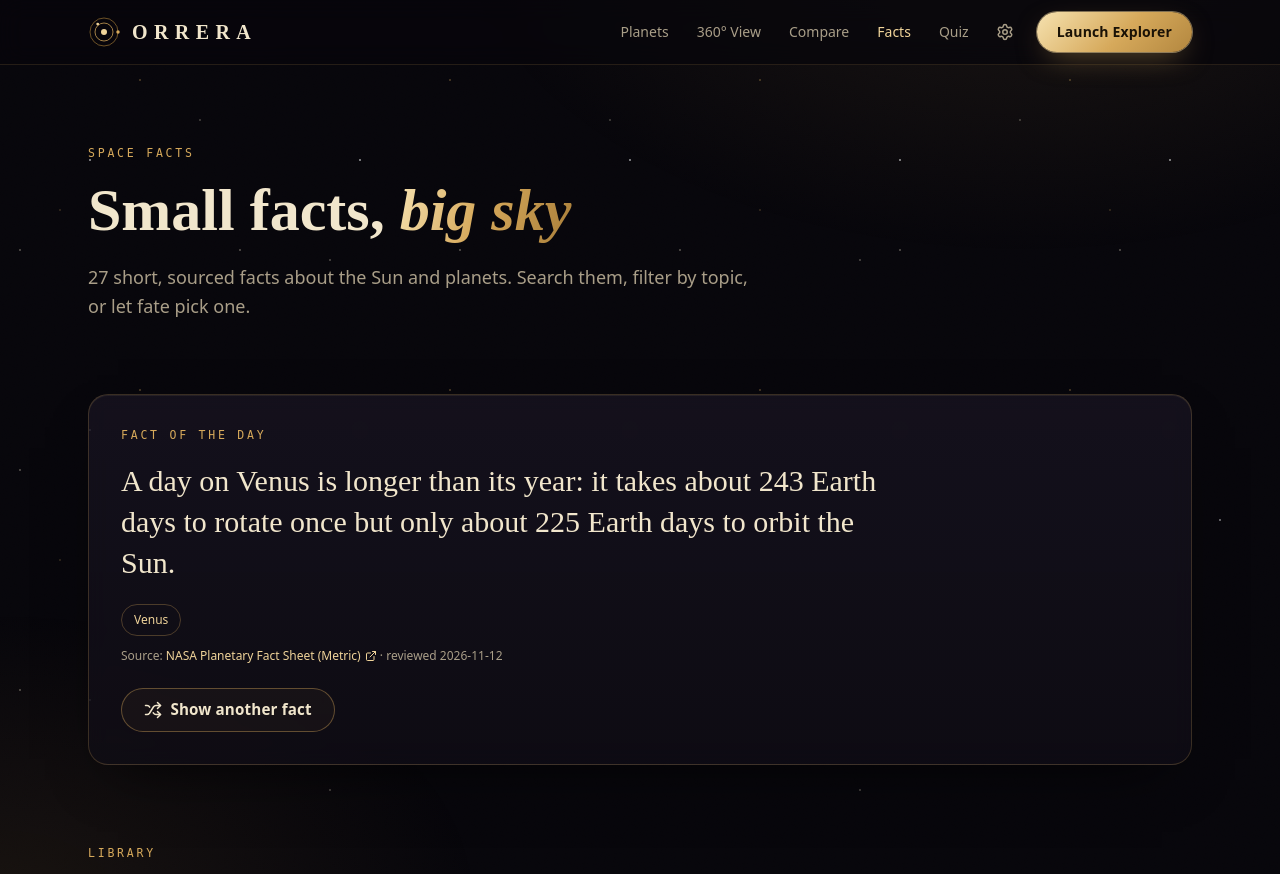
facts page › can show another fact
Expected: the heading "Small facts, big sky" is shown, [88,177,581,248]
Click the button "Show another fact" at coordinates (228, 710), box [121,688,335,732]
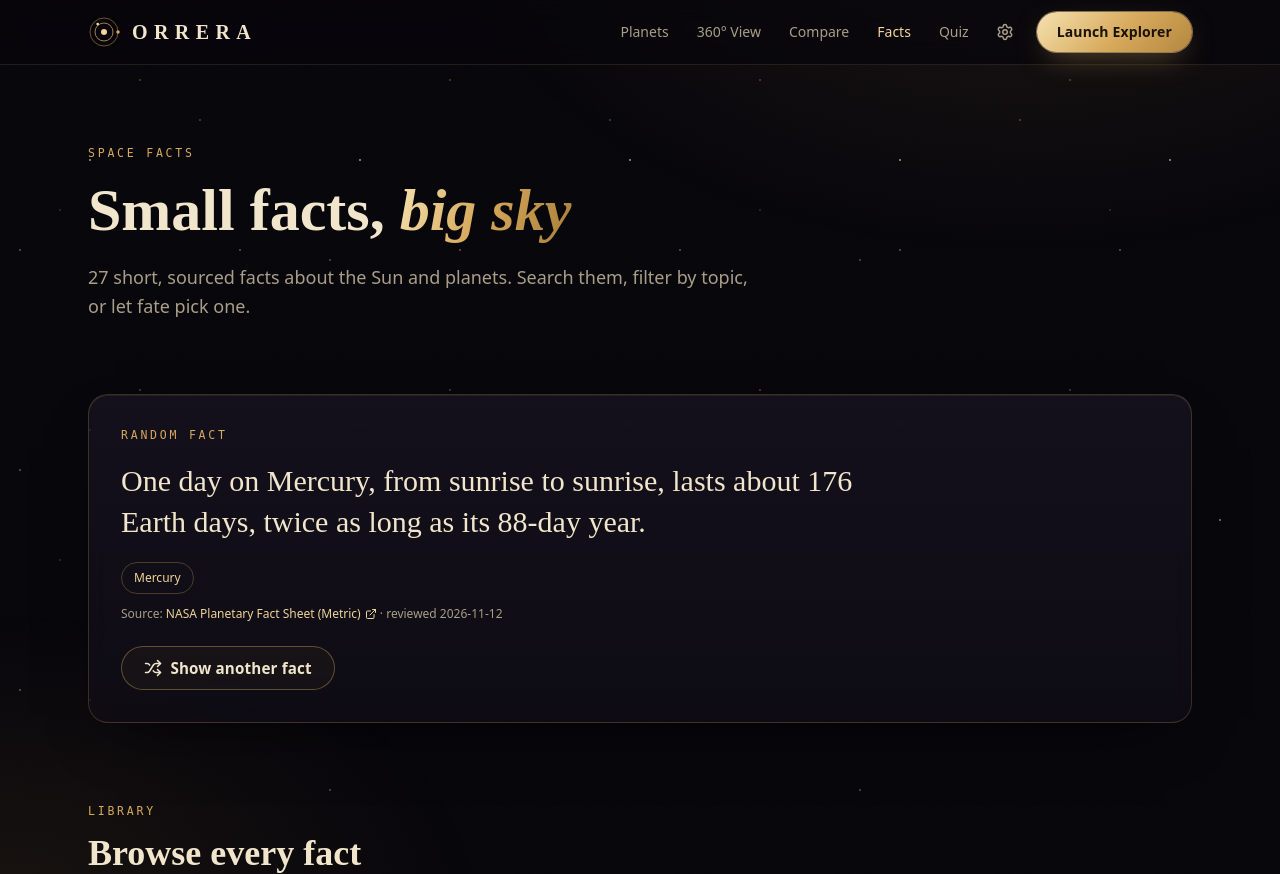
Expected: the text "Random fact" is shown, [121,428,228,442]
